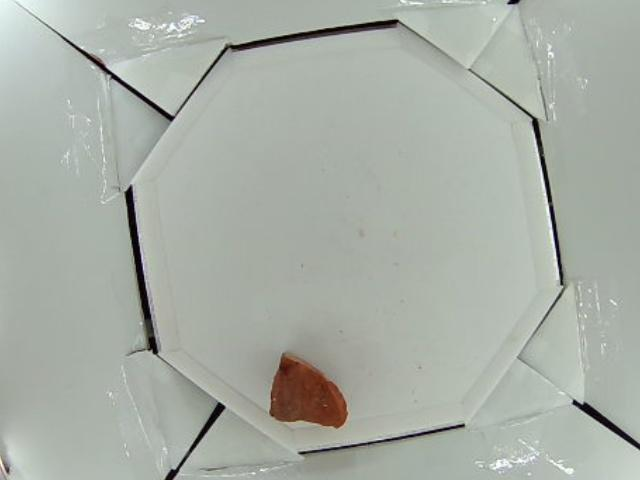Brisk: (268, 350, 346, 428)
